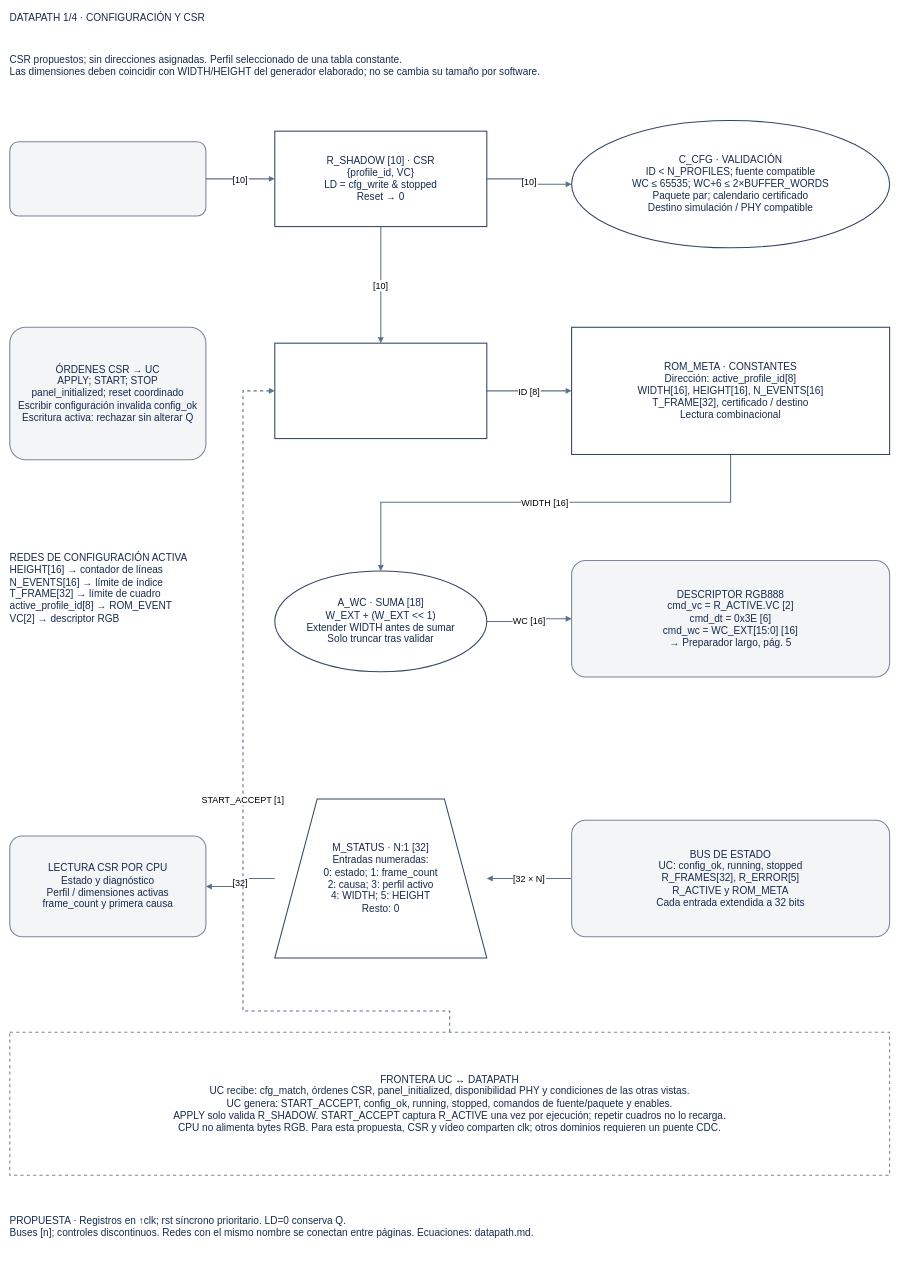
Image size: 909x1269. Some labels were removed from this diagram. Here are the shapes that lost their labels. From the top down, the centre of each, then its label:
At (107,178): "RISC-V / LiteX Escritura CSR profile_id[8], VC[2]".
At (380,390): "R_ACTIVE [10] D = R_SHADOW LD = START_ACCEPT Reset → 0".
